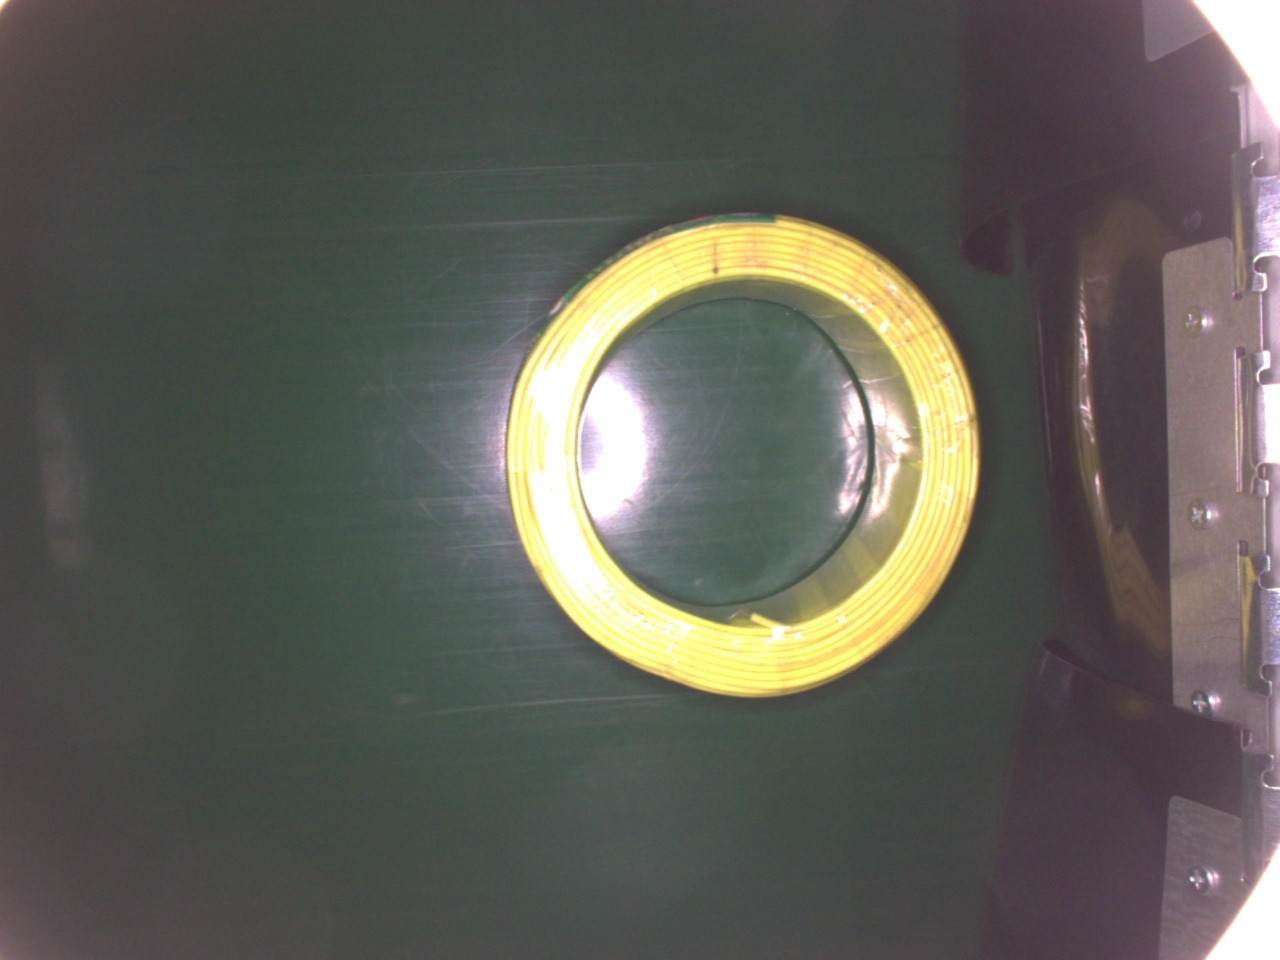yellow: (504, 209, 979, 708)
